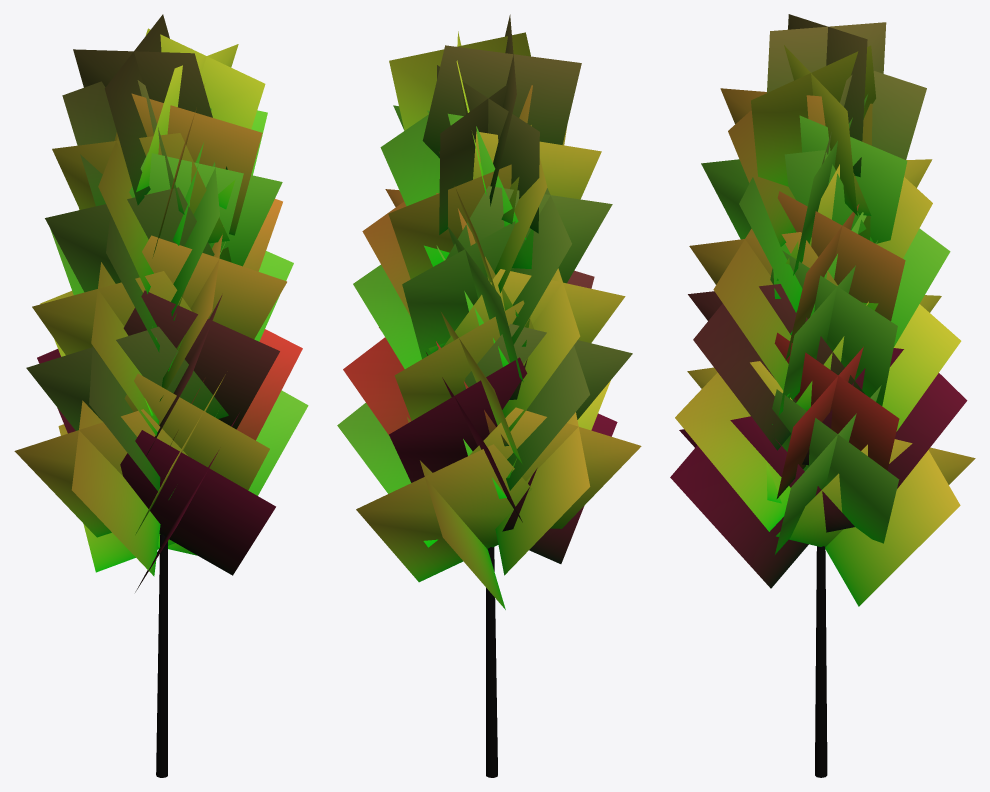
File: Tree_6.fbx
3 renders of one model, left to right at view 1: azimuth 30°, elevation 25°; view 2: azimuth 150°, elevation 25°; view 3: azimuth 270°, elevation 25°, orthographic.
Parts seen in each view (by area): view 1: Tree_6; view 2: Tree_6; view 3: Tree_6.
Part boxes in pixels (left/top/right/bottom): Tree_6: left=14, top=14, right=308, bottom=777; Tree_6: left=337, top=14, right=641, bottom=777; Tree_6: left=670, top=14, right=975, bottom=777.
Bounding box in the file's own units: 638 × 1771 × 656.
